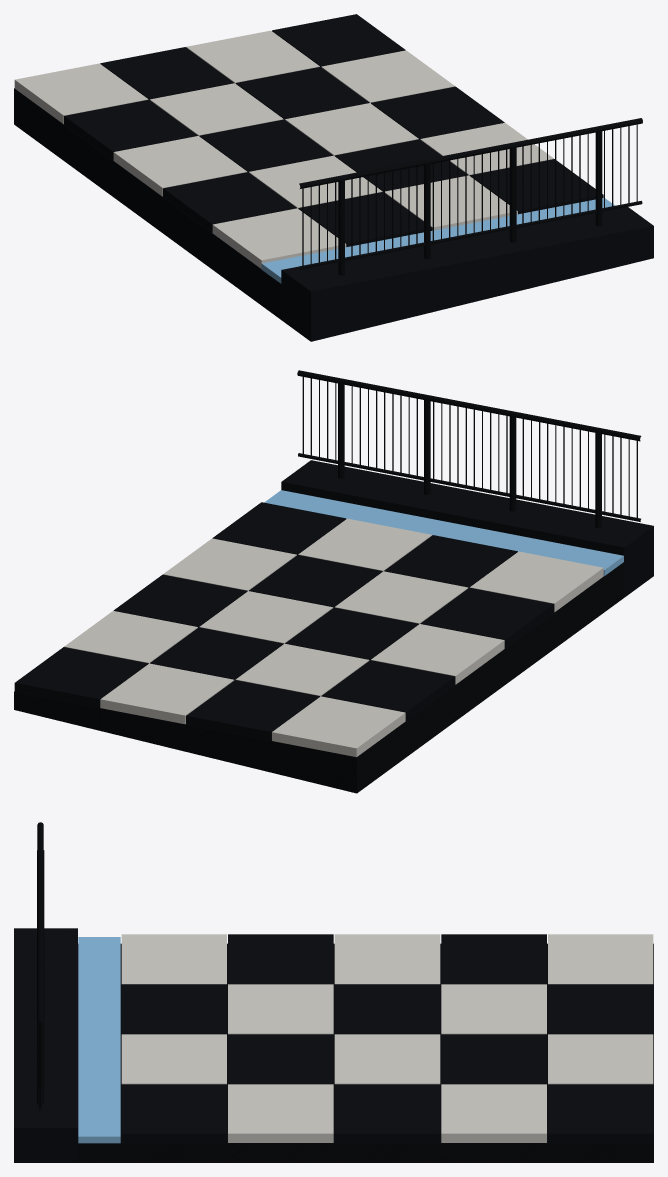
File: v2_ramp.glb
The picture shows the model from 3 angles, top to bottom: view 1: azimuth 30°, elevation 25°; view 2: azimuth 150°, elevation 25°; view 3: azimuth 270°, elevation 25°; orthographic projection. The views are drawn at different scales.
Parts seen in each view (by area): view 1: Pavers_A, Pavers_B, Ramp_Kerb, Guard_Frame, Ramp_Body, Runnel; view 2: Pavers_A, Pavers_B, Ramp_Body, Ramp_Kerb, Guard_Frame, Runnel; view 3: Pavers_B, Pavers_A, Ramp_Kerb, Ramp_Body, Runnel, Guard_Frame.
Boxes of the visible parts, x1=… form: Pavers_A: x1=14, y1=30, x2=553, y2=268; Pavers_B: x1=64, y1=14, x2=603, y2=246; Ramp_Kerb: x1=281, y1=207, x2=653, y2=341; Guard_Frame: x1=299, y1=118, x2=642, y2=275; Ramp_Body: x1=14, y1=88, x2=281, y2=319; Runnel: x1=261, y1=198, x2=614, y2=283; Pavers_A: x1=64, y1=518, x2=603, y2=757; Pavers_B: x1=14, y1=502, x2=554, y2=740; Ramp_Body: x1=14, y1=562, x2=624, y2=793; Ramp_Kerb: x1=281, y1=460, x2=653, y2=597; Guard_Frame: x1=297, y1=370, x2=641, y2=527; Runnel: x1=264, y1=490, x2=623, y2=576; Pavers_B: x1=121, y1=934, x2=653, y2=1142; Pavers_A: x1=121, y1=934, x2=653, y2=1142; Ramp_Kerb: x1=14, y1=928, x2=77, y2=1162; Ramp_Body: x1=78, y1=943, x2=653, y2=1162; Runnel: x1=78, y1=937, x2=120, y2=1143; Guard_Frame: x1=37, y1=822, x2=44, y2=1111.
Size of what is drawn, in the model's own units: 4 by 1.66 by 6.
4 materials, 2 textured.
